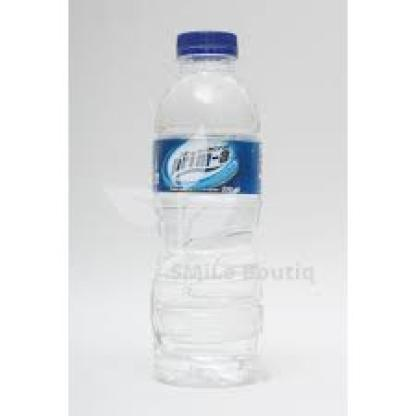Glass Bottle: (147, 27, 264, 394)
